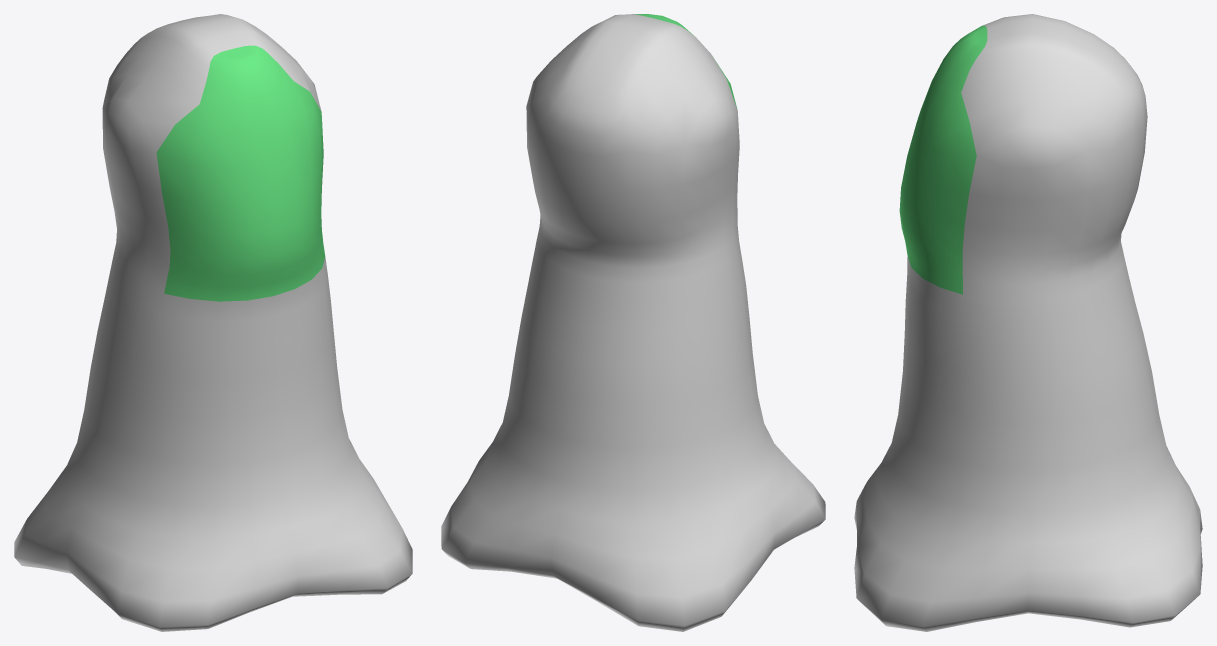
The model's file is ghostie.fbx.
3 views of the same model, side by side, from view 1: azimuth 30°, elevation 25°; view 2: azimuth 150°, elevation 25°; view 3: azimuth 270°, elevation 25° (orthographic). The views are drawn at different scales.
Parts seen in each view (by area): view 1: Ghost; view 2: Ghost; view 3: Ghost.
Part boxes in pixels (bbox=[...]): Ghost: bbox=[14, 14, 412, 631]; Ghost: bbox=[441, 14, 825, 631]; Ghost: bbox=[854, 14, 1202, 631].
Bounding box in the file's own units: 1054 × 1851 × 1054.
